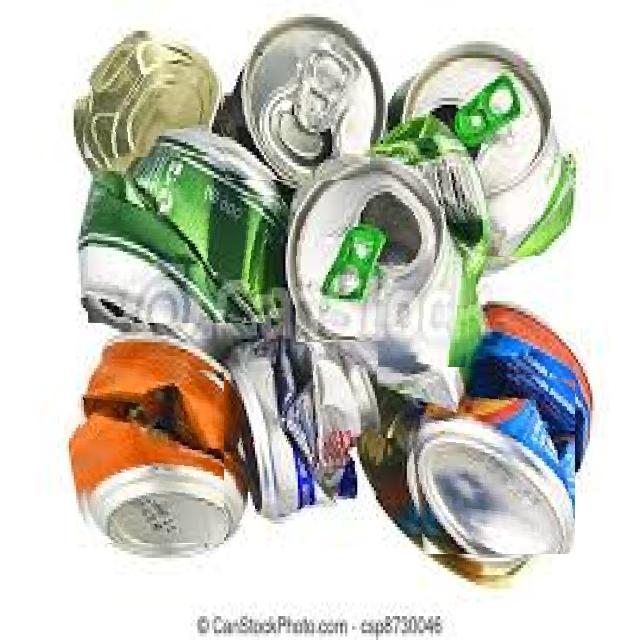Cans: (392, 62, 572, 256), (404, 362, 575, 554), (296, 203, 476, 367), (76, 357, 224, 543), (236, 342, 378, 525), (88, 190, 282, 323), (217, 38, 370, 180), (74, 44, 209, 158)
